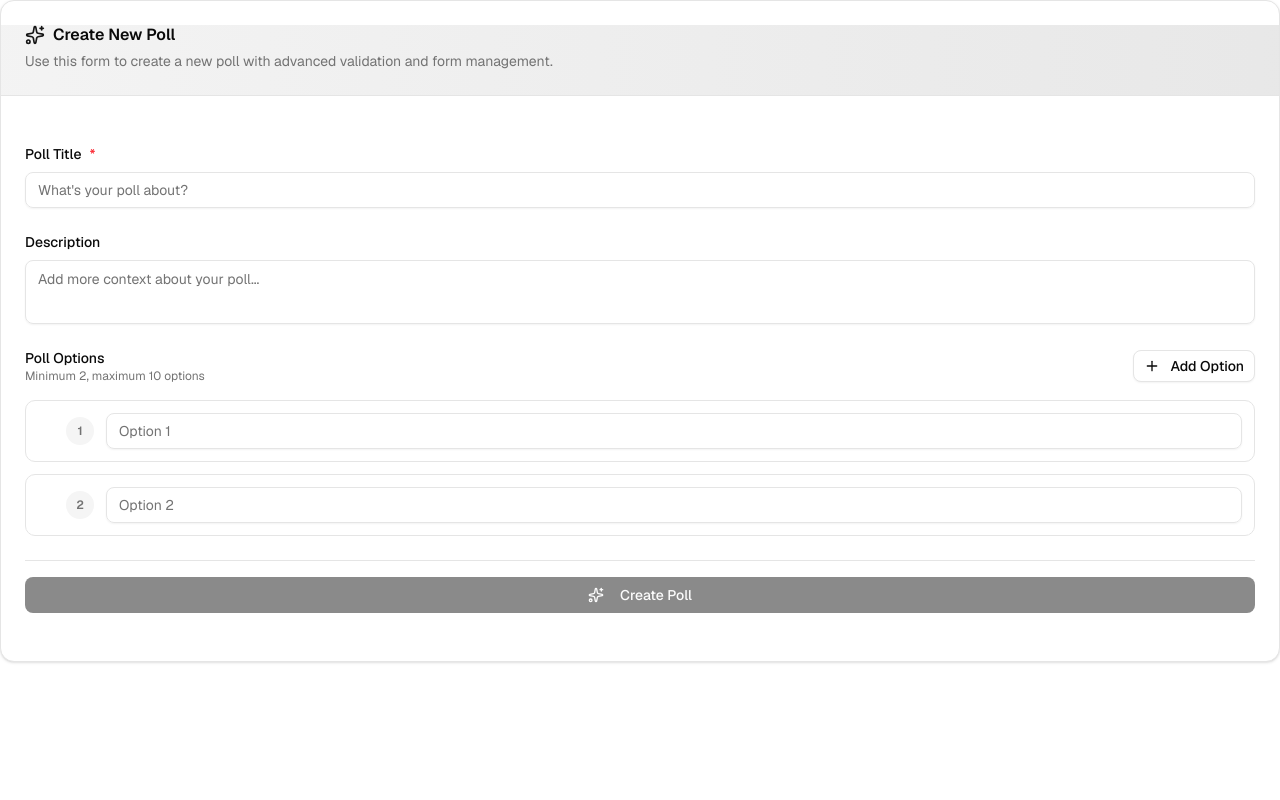
PollForm › shows character count for description
Type "Test Description" into the text box labelled "Description" at (640, 292), box x1=25 y1=260 x2=1255 y2=324
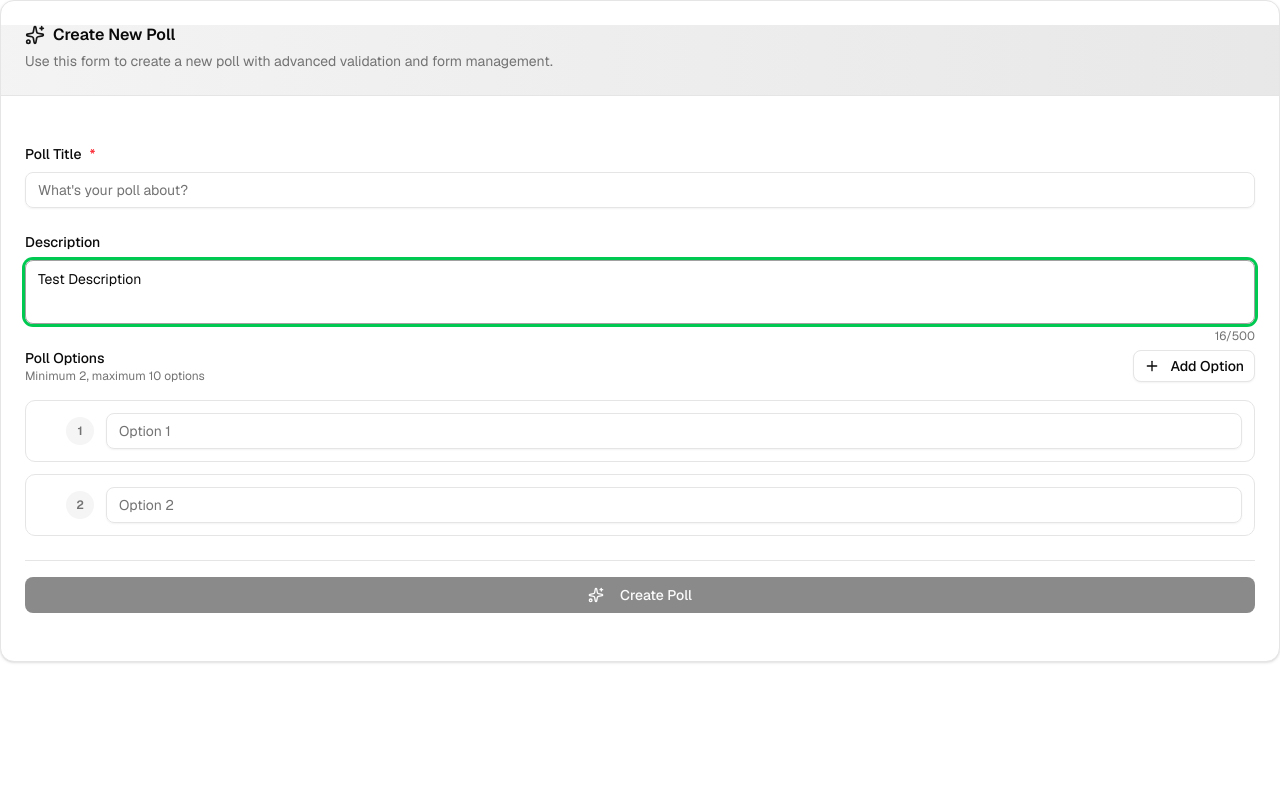
Result: the text "16/500" is shown at x1=1215 y1=328 x2=1255 y2=344
